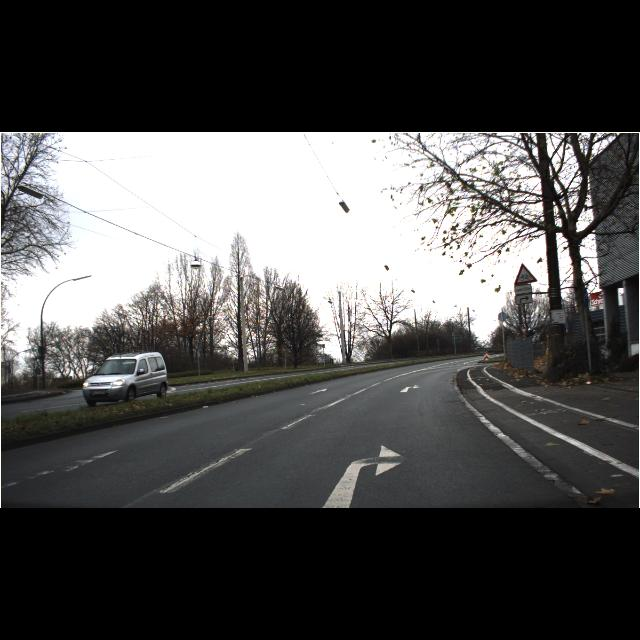danger: (514, 264, 538, 286)
